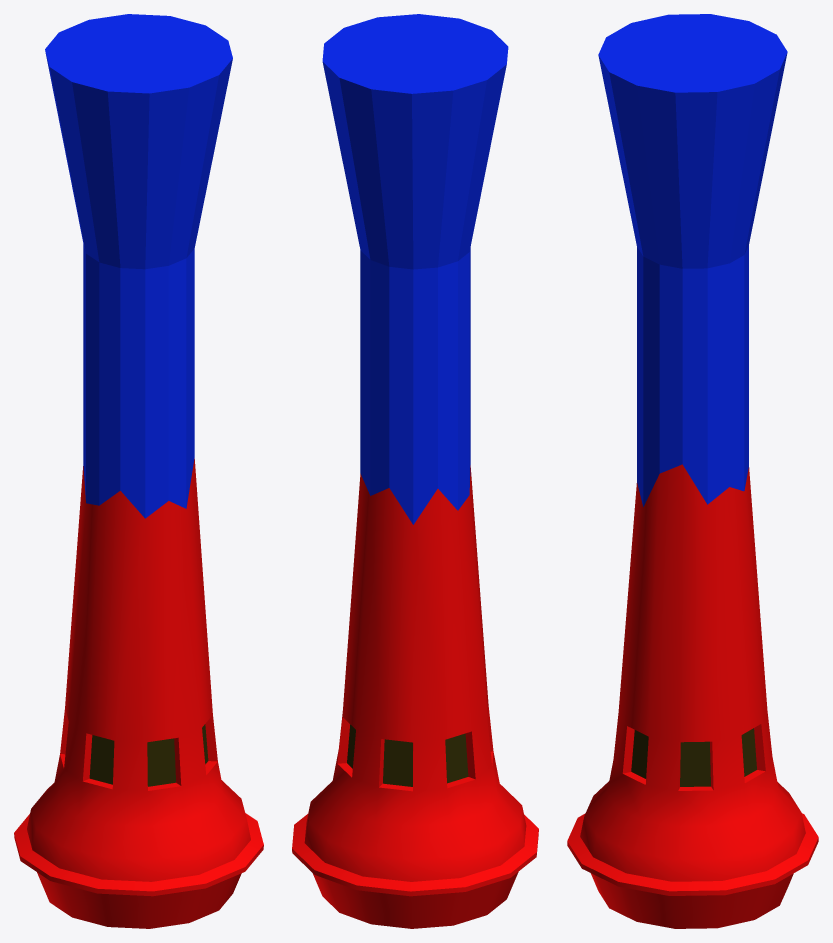
File: body_F.FBX
The picture shows the model from 3 angles, left to right: view 1: azimuth 30°, elevation 25°; view 2: azimuth 150°, elevation 25°; view 3: azimuth 270°, elevation 25°; orthographic projection.
Visible parts, largest first — view 1: pillar_F_bodydown, pillar_F_bodyup, pillar_F_glass; view 2: pillar_F_bodydown, pillar_F_bodyup, pillar_F_glass; view 3: pillar_F_bodydown, pillar_F_bodyup, pillar_F_glass.
Boxes of the visible parts, bbox=[...] form: pillar_F_bodydown: bbox=[14, 458, 263, 928]; pillar_F_bodyup: bbox=[45, 14, 232, 518]; pillar_F_glass: bbox=[89, 724, 208, 786]; pillar_F_bodydown: bbox=[292, 465, 538, 928]; pillar_F_bodyup: bbox=[322, 14, 508, 524]; pillar_F_glass: bbox=[347, 724, 468, 786]; pillar_F_bodydown: bbox=[567, 464, 818, 928]; pillar_F_bodyup: bbox=[598, 14, 787, 506]; pillar_F_glass: bbox=[631, 728, 756, 786].
Size of the model in its own units: 10.44 by 38.95 by 10.61.
